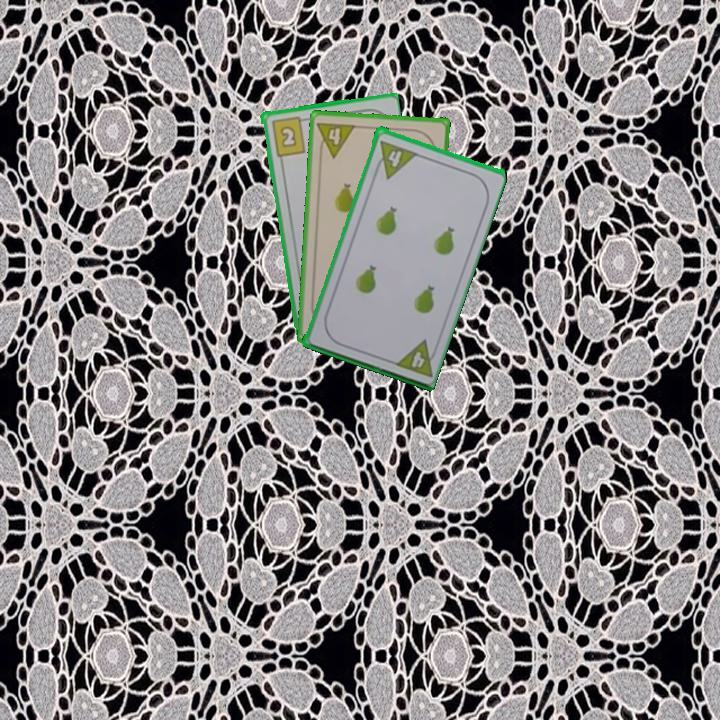2b: (268, 113, 310, 159)
4p: (314, 118, 358, 160), (384, 144, 418, 181), (408, 347, 428, 370)
